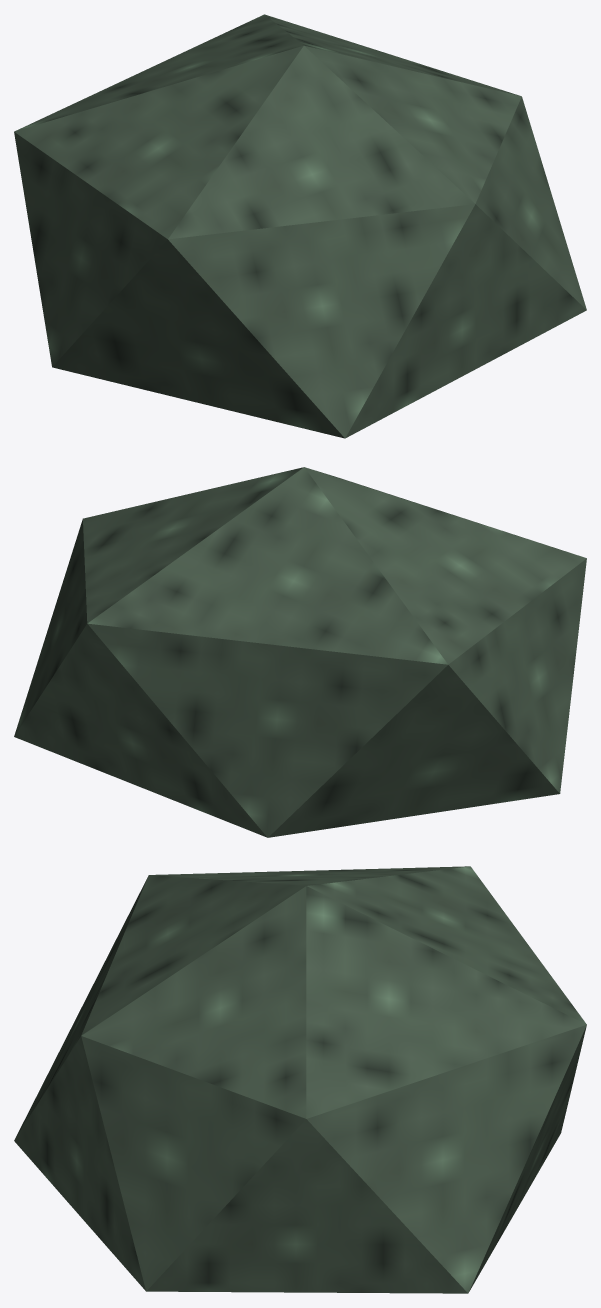
The model's file is SM_Forest_Rock_S_40x40x20.fbx.
3 renders of one model, top to bottom at view 1: azimuth 30°, elevation 25°; view 2: azimuth 150°, elevation 25°; view 3: azimuth 270°, elevation 25°, orthographic. The views are drawn at different scales.
Visible parts, largest first — view 1: SM_Forest_Rock_S_40x40x20.030; view 2: SM_Forest_Rock_S_40x40x20.030; view 3: SM_Forest_Rock_S_40x40x20.030.
Boxes of the visible parts, x1,y1,x2,y2 form: SM_Forest_Rock_S_40x40x20.030: [14, 14, 586, 438]; SM_Forest_Rock_S_40x40x20.030: [14, 467, 586, 837]; SM_Forest_Rock_S_40x40x20.030: [14, 866, 586, 1293].
Bounding box in the file's own units: 0.4305 × 0.2421 × 0.4103.
